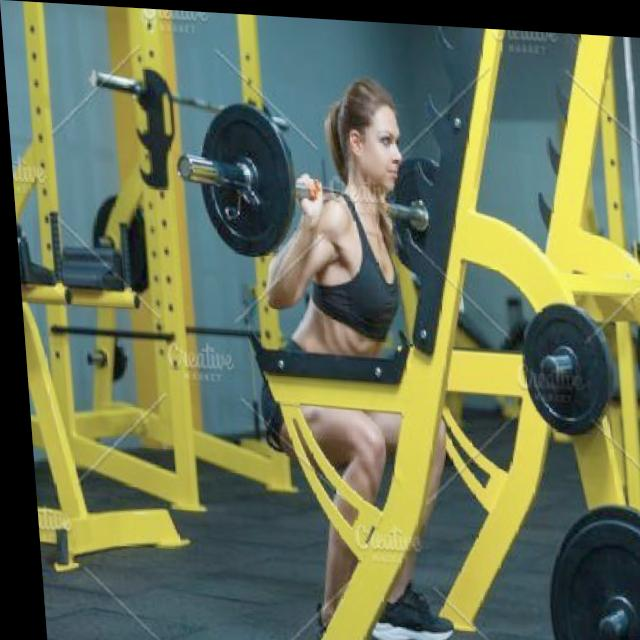barbell: (169, 95, 298, 258)
